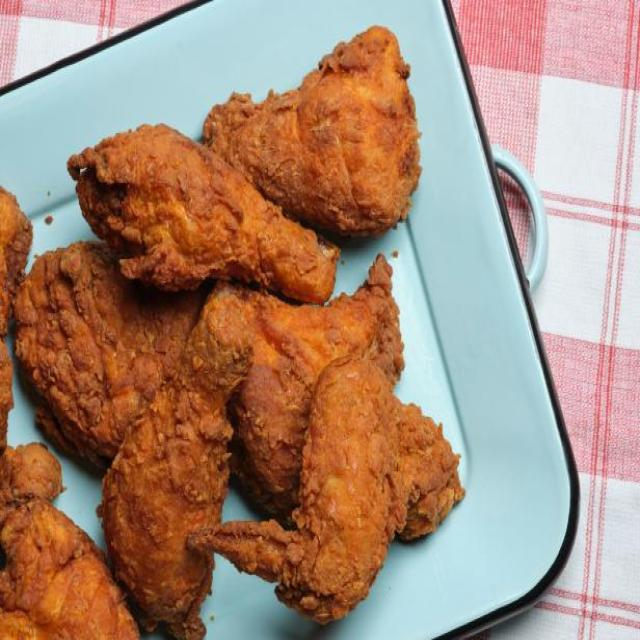Frango: (0, 23, 468, 640)
